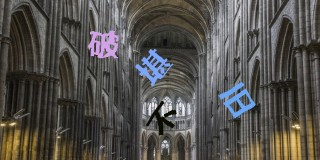不: (144, 101, 177, 135)
堪: (134, 47, 173, 87)
旧: (218, 81, 256, 118)
破: (85, 29, 119, 59)
